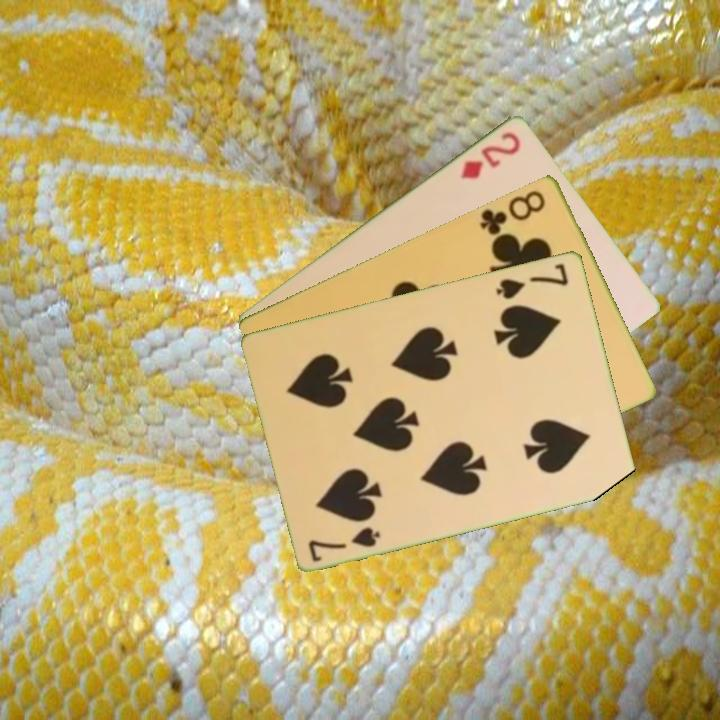2d: (457, 127, 524, 182)
7s: (492, 259, 572, 302), (305, 522, 384, 564)
8c: (476, 186, 549, 242)
